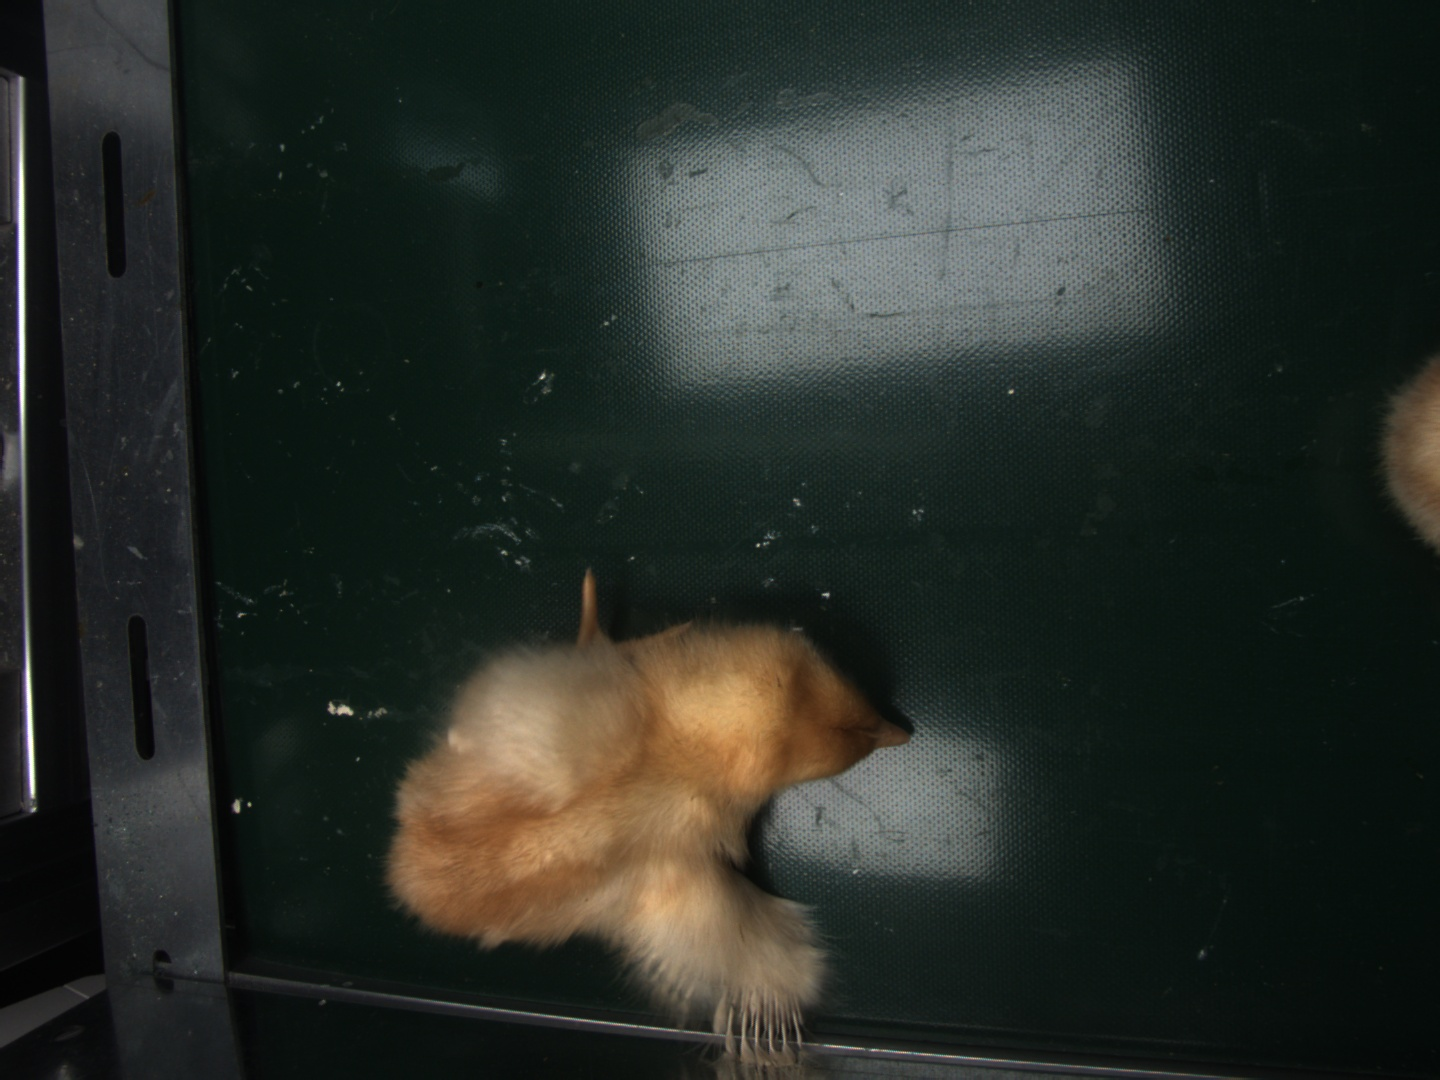female: (713, 989, 808, 1068)
